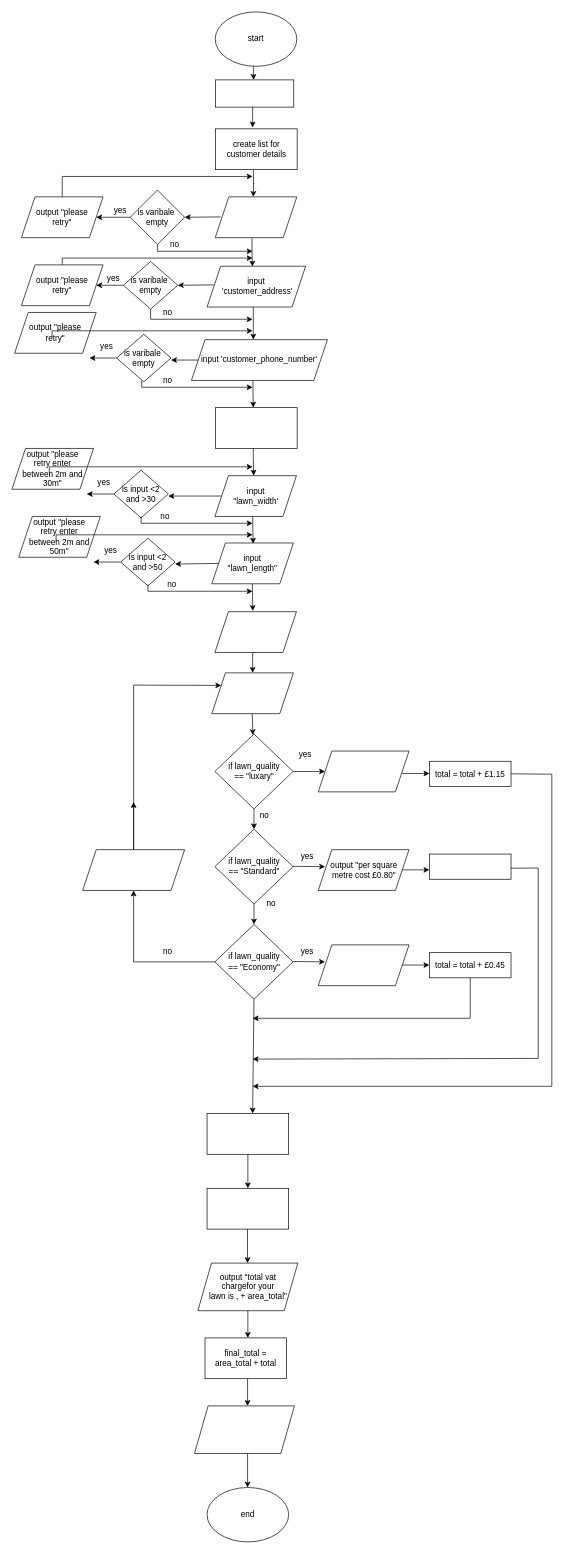
The diagram is 569 pixels wide and 1554 high, and some of its shapes have lost their labels. The box of each missing label's shape, as (x1, y1, x2, y2) in pixels:
area_total = square_metre x 0.50: (206, 1188, 289, 1229)
create list for lawn_details: (215, 407, 297, 448)
input 'customer_name': (215, 196, 297, 238)
input lawn_quality: (211, 672, 293, 714)
output "per square metre cost £0.45": (318, 944, 409, 986)
output "per square metre cost £1.15": (318, 750, 409, 792)
output "please enter the lawn quality": (214, 611, 296, 652)
output "please retry: enter: luxary or standard or economy: (82, 849, 185, 890)
output "your overall total = ,+ final_total": (194, 1405, 294, 1454)
square_metre = lawn_length x lawn_width: (206, 1113, 289, 1154)
total = 0: (215, 79, 294, 107)
total = total + £0.80: (429, 853, 511, 879)
